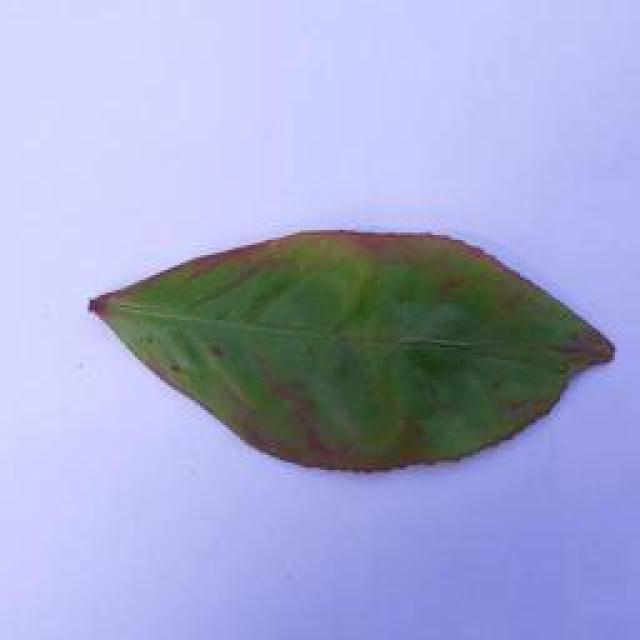Red Leaf Spot: (87, 216, 624, 487)
